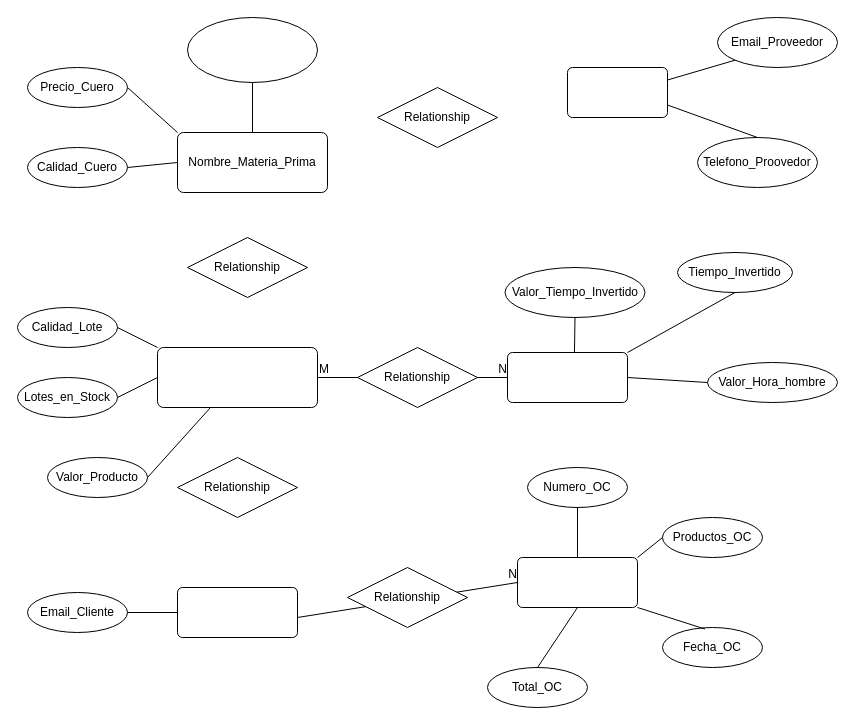
The diagram is 855 pixels wide and 725 high, and some of its shapes have lost their labels. The box of each missing label's shape, as (x1, y1, x2, y2) in pixels:
Clientes: (176, 586, 298, 638)
Empleado: (506, 352, 628, 402)
Nombre_Producto_Existente: (156, 346, 318, 408)
Orden_Compra: (516, 556, 638, 608)
Proveedor: (566, 66, 668, 118)
Valor_Materia_Prima: (186, 16, 318, 82)
